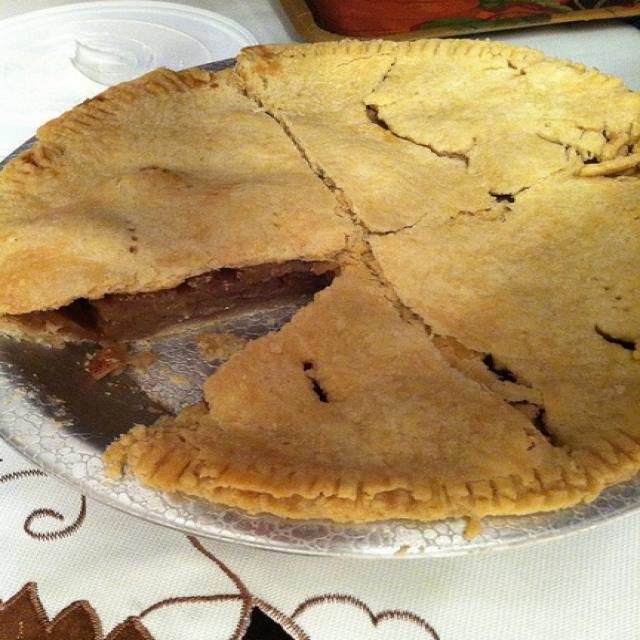Apple: (3, 41, 634, 516)
